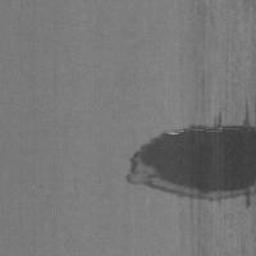Water spot: (124, 93, 256, 209)
